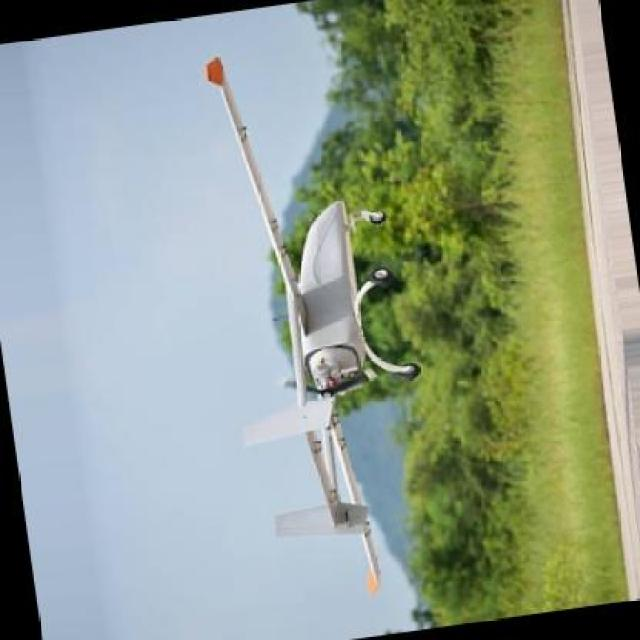iha: (198, 53, 417, 587)
